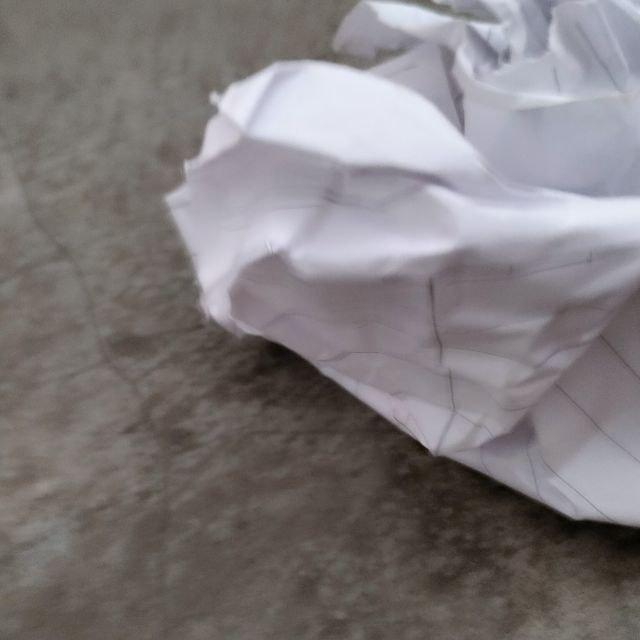paper: (106, 0, 640, 628)
